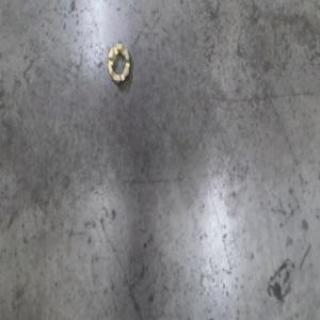Nuttrack_idkeyframe: (104, 40, 131, 86)
